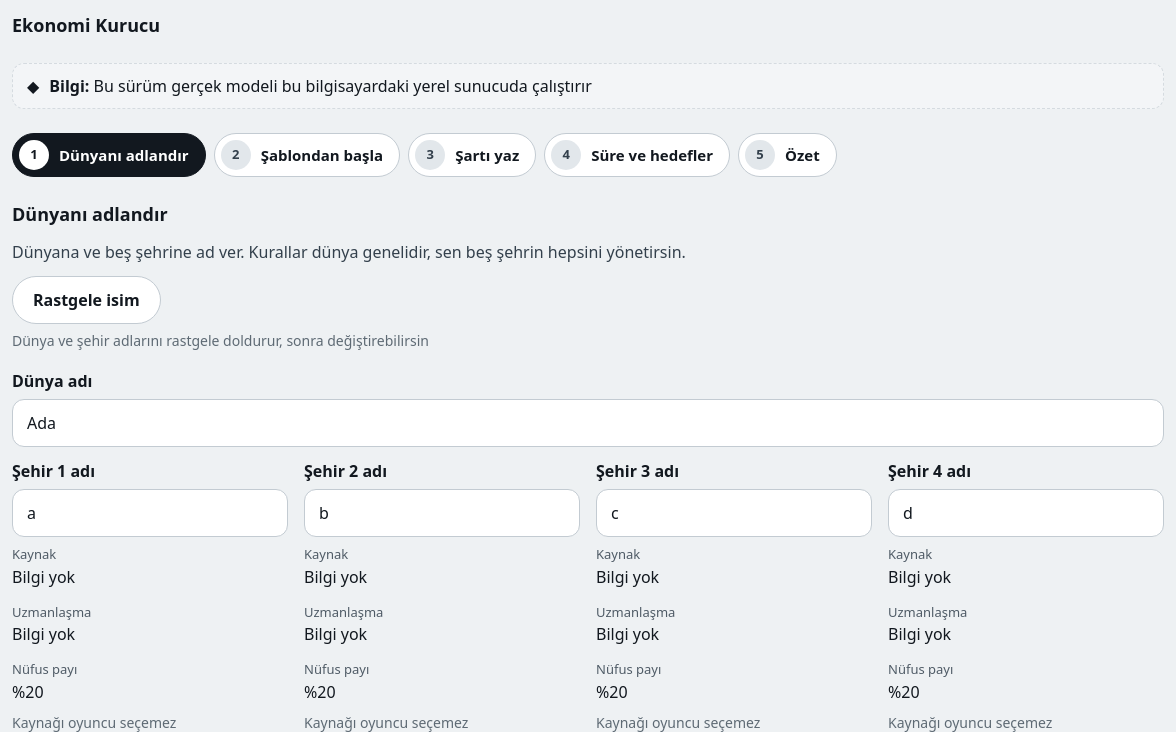
Test: Kurucu adım 3: süre › modelin_sunmadigi_sure_nedenli_kilitli
expect the heading "Ekonomi Kurucu" is shown: met, box top-left (12, 12), bottom-right (160, 39)
Click the button "4 Süre ve hedefler": (637, 155) top-left (544, 133), bottom-right (730, 177)
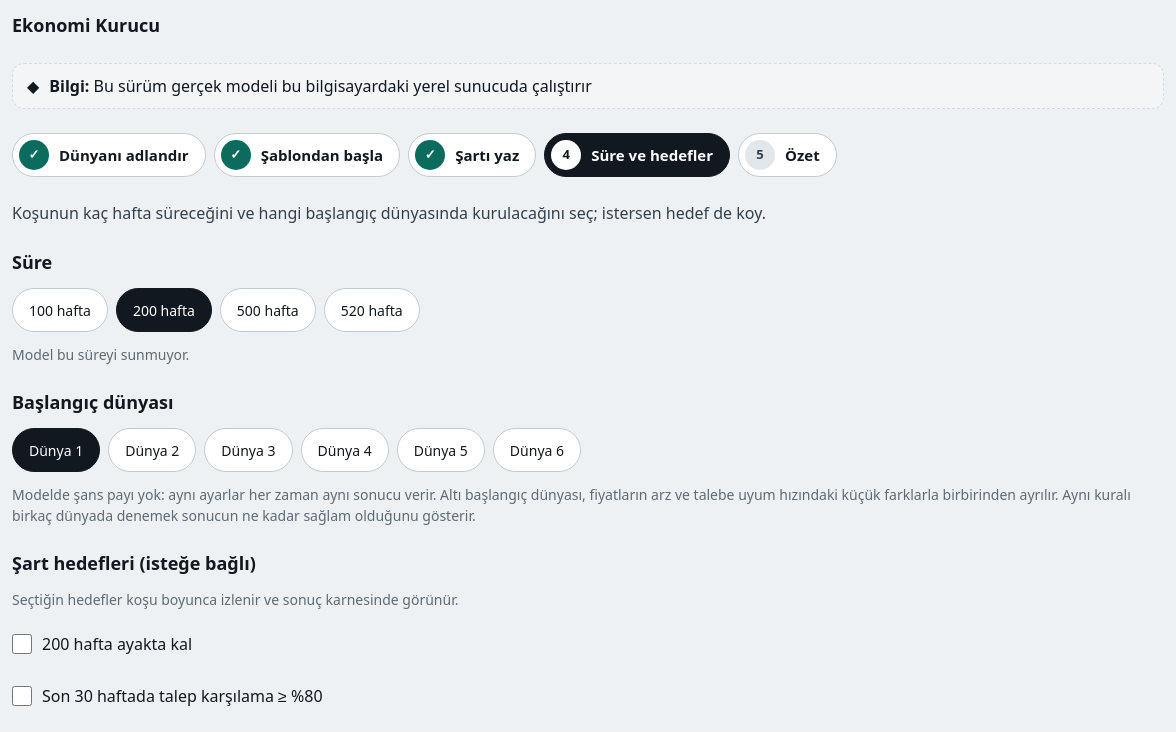
expect the button "100 hafta" is disabled: met, box top-left (12, 288), bottom-right (108, 332)
